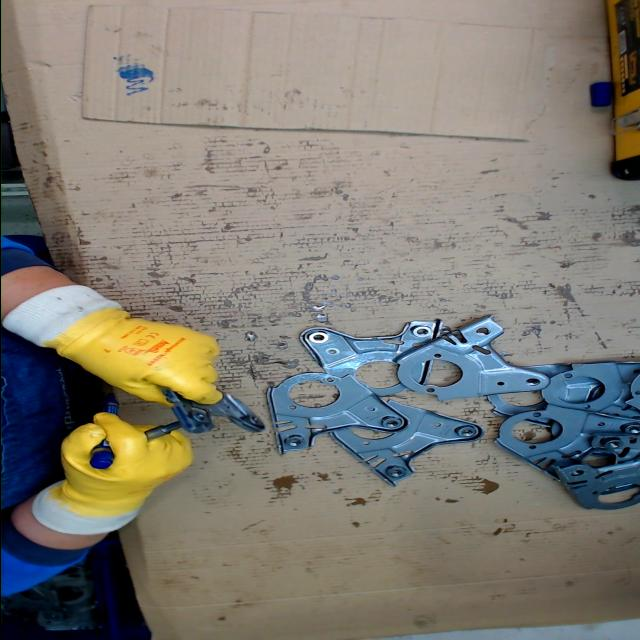hands: (55, 306, 222, 406), (52, 412, 194, 514)
